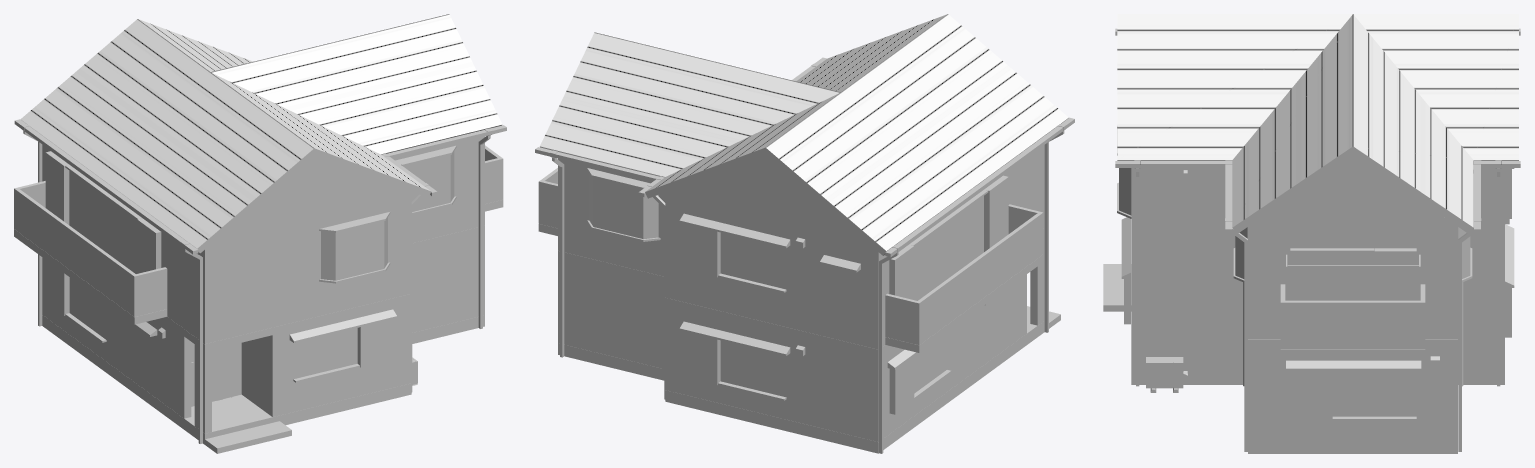
File: House_2021_F.fbx
3 views of the same model, side by side, from view 1: azimuth 30°, elevation 25°; view 2: azimuth 150°, elevation 25°; view 3: azimuth 270°, elevation 25° (orthographic). The views are drawn at different scales.
Visible parts, largest first — view 1: House_2021_F; view 2: House_2021_F; view 3: House_2021_F.
Part boxes in pixels (x1,y1,x2,y2): House_2021_F: (14, 14, 506, 453); House_2021_F: (535, 14, 1074, 453); House_2021_F: (1103, 14, 1520, 453).
Bounding box in the file's own units: 1114 × 740 × 894.
